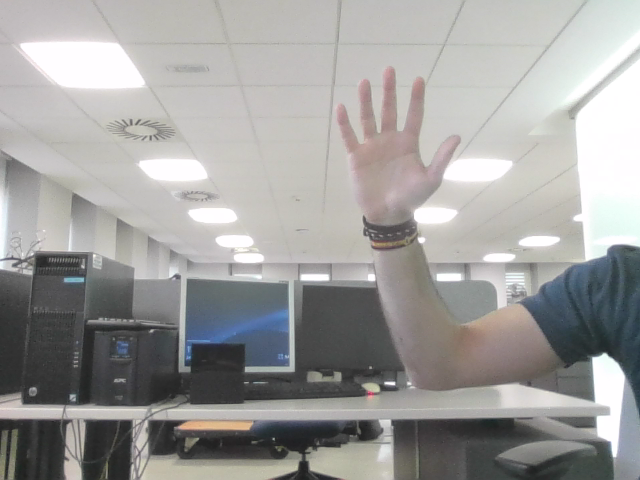Mano Abierta: (345, 78, 447, 193)
